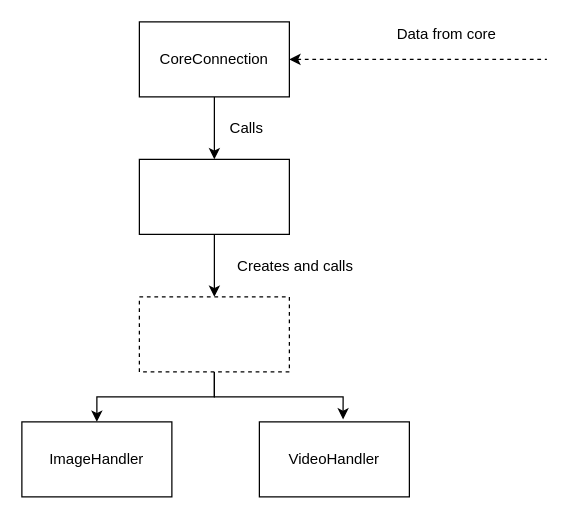
Image size: 581x519. Some labels were removed from this diagram. The centre of each missing label's shape, as x and y in pixels:
CommandRouter: (213,196)
MediaHandler (abstract): (213,334)
